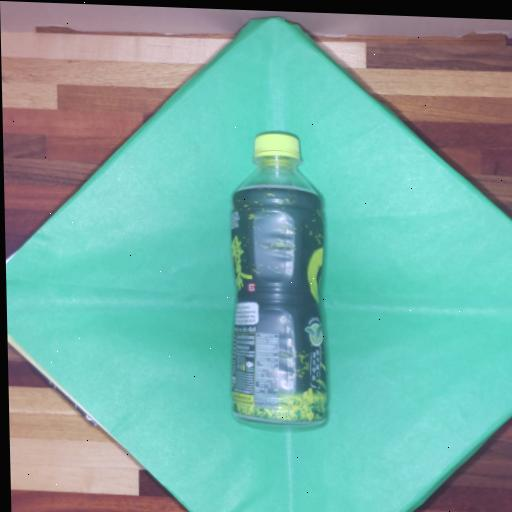bottle: (232, 133, 327, 424)
